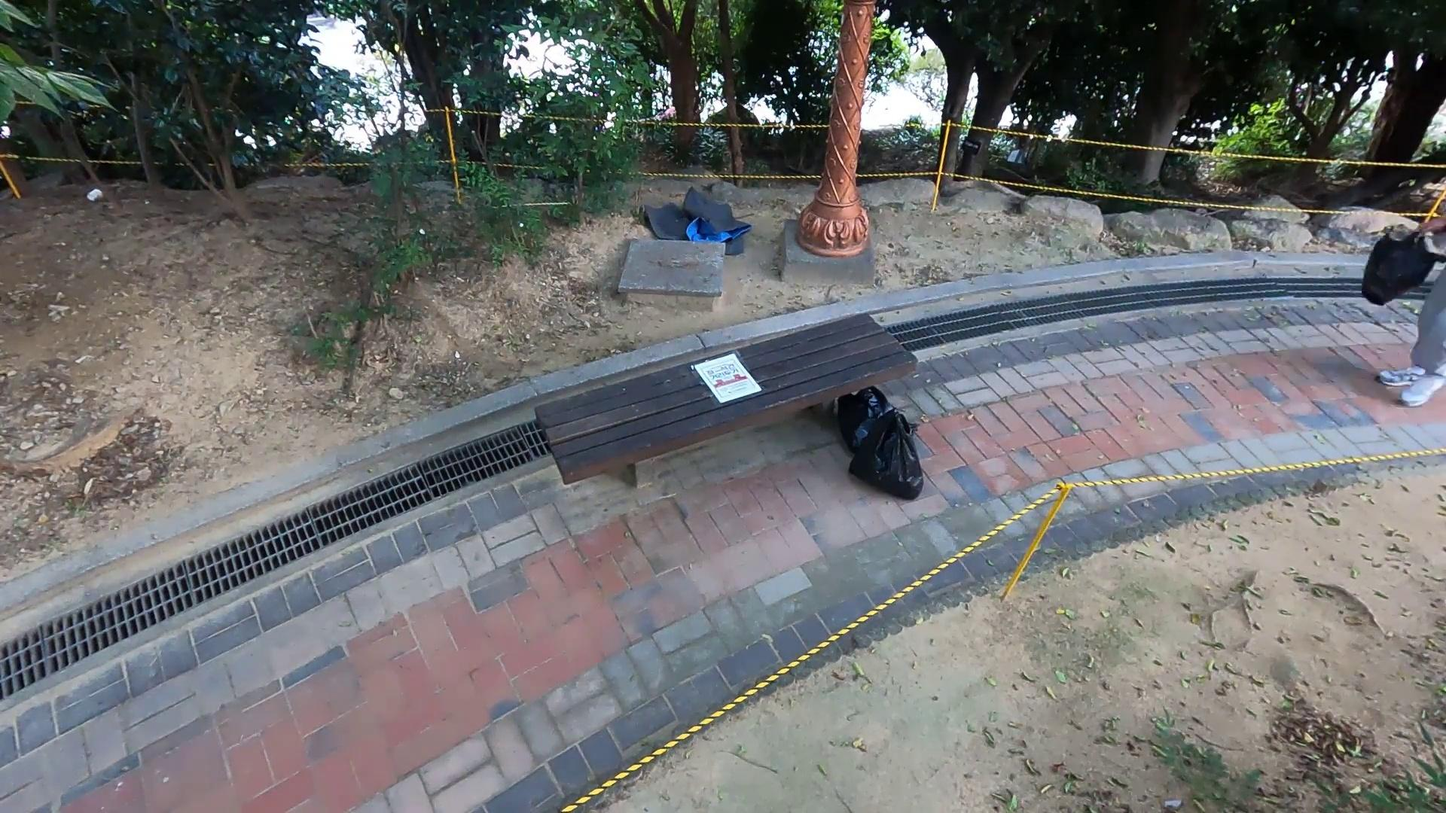trash: (631, 177, 753, 265), (850, 409, 928, 501), (1362, 227, 1440, 309), (830, 381, 908, 456)
